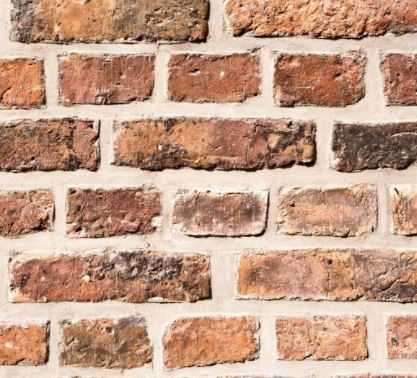brick: (8, 250, 211, 305), (111, 117, 316, 169), (235, 248, 417, 304), (12, 1, 209, 44), (225, 1, 417, 39), (1, 115, 102, 174), (57, 50, 156, 107), (276, 183, 380, 237), (274, 47, 369, 106), (167, 47, 262, 104), (66, 184, 164, 239), (166, 315, 261, 370), (173, 184, 271, 237), (275, 313, 369, 364), (57, 315, 151, 365), (330, 119, 417, 172), (1, 185, 55, 237), (1, 56, 46, 110), (1, 320, 51, 364), (379, 52, 417, 107), (384, 312, 417, 358), (388, 183, 417, 235)
